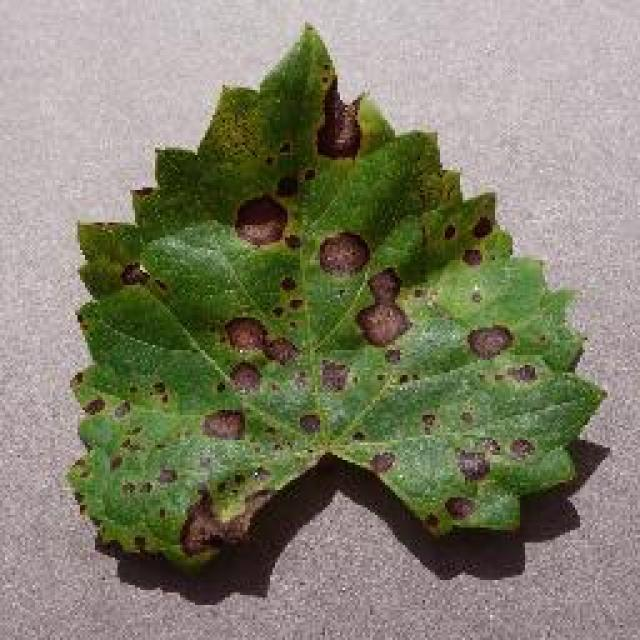Grape___Black_rot: (61, 19, 613, 572)
